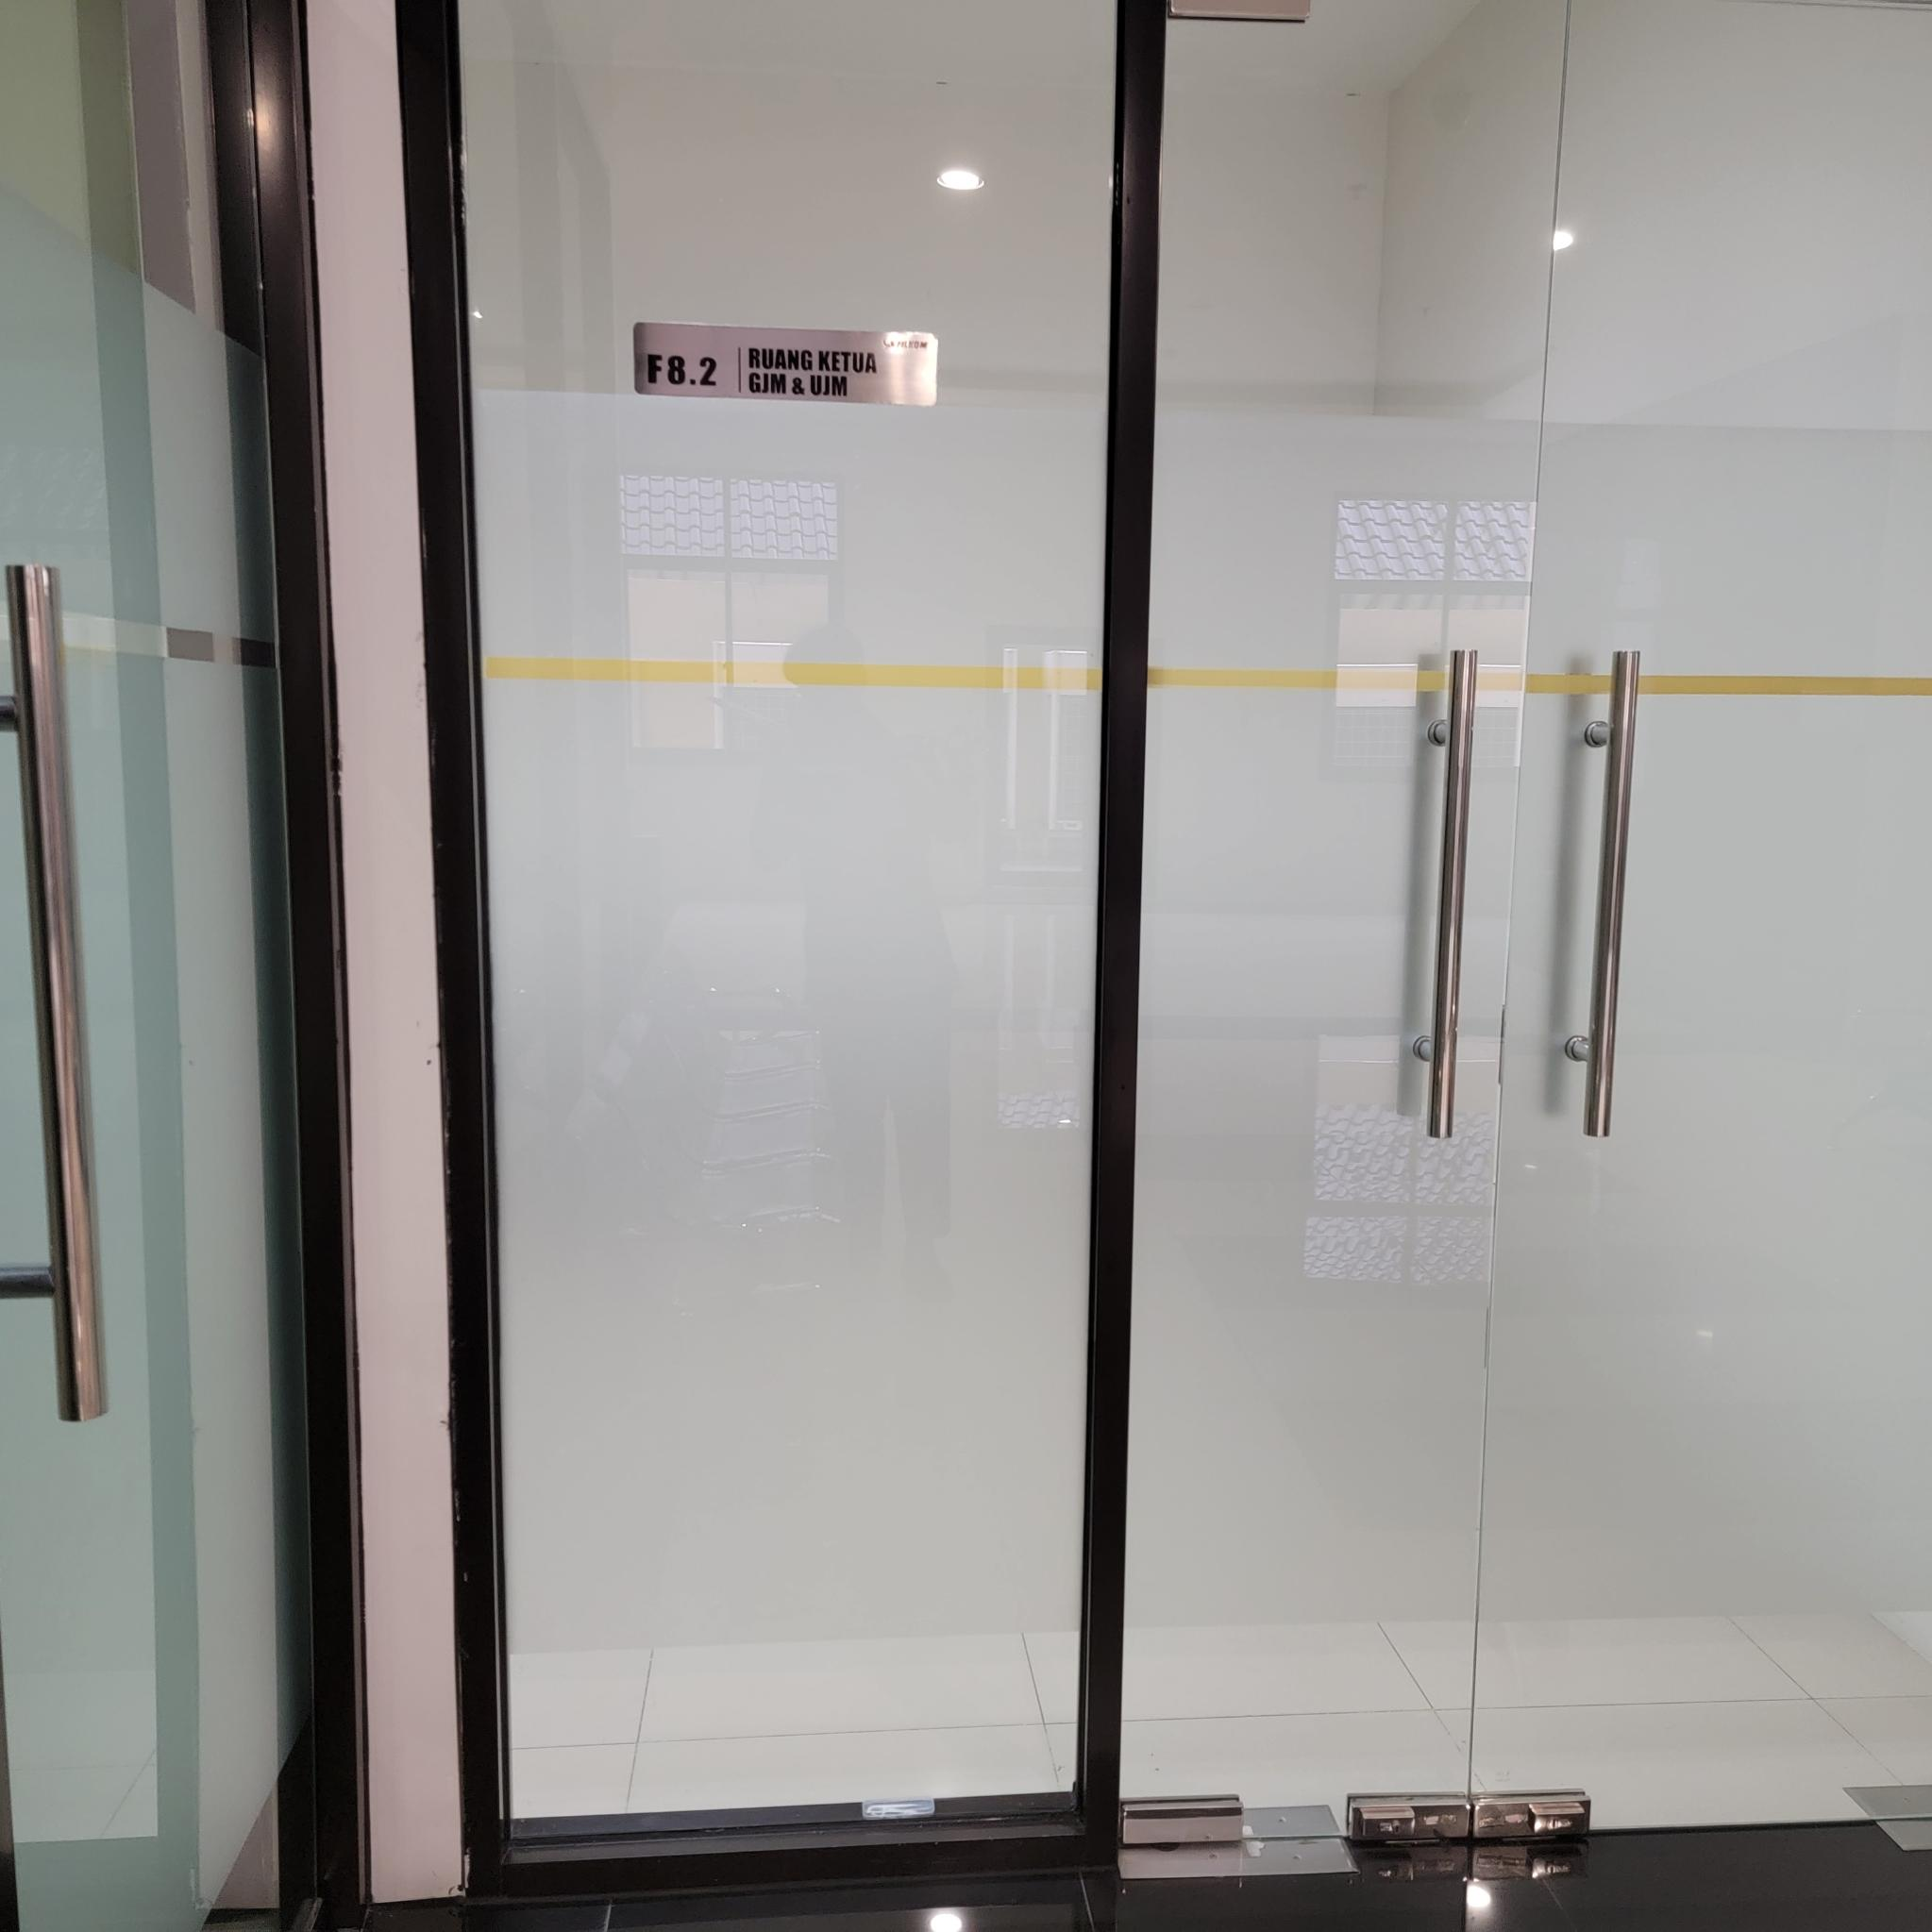plate: (630, 320, 941, 412)
